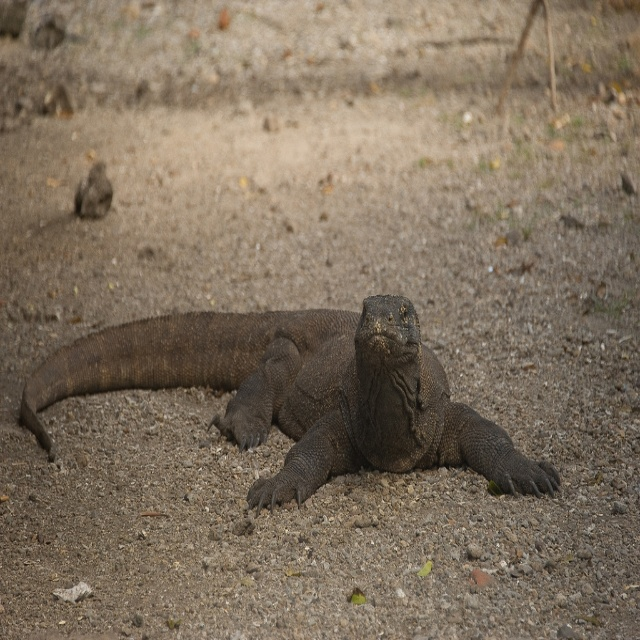Lizard: (5, 283, 568, 520)
